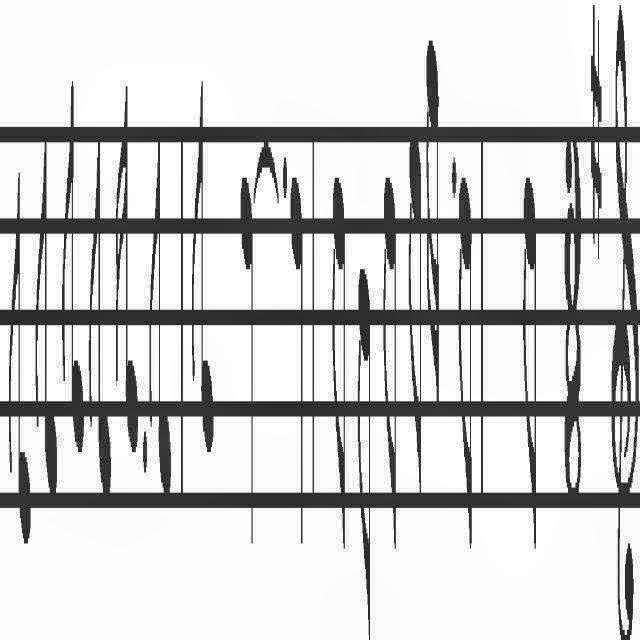Bass-clef: (611, 20, 640, 639), (639, 20, 640, 639)
Diez: (590, 7, 604, 243)
Eighth-note: (186, 65, 218, 461), (148, 94, 176, 542), (88, 73, 112, 527), (61, 72, 85, 516), (34, 102, 58, 538), (8, 174, 32, 558), (378, 145, 399, 555), (523, 159, 541, 576), (329, 160, 347, 548), (406, 109, 422, 501), (356, 268, 372, 632), (458, 174, 474, 526)
Quarter-note: (288, 145, 308, 570), (240, 152, 256, 534)
Sixteenth-note: (112, 64, 144, 512), (426, 36, 442, 417)
